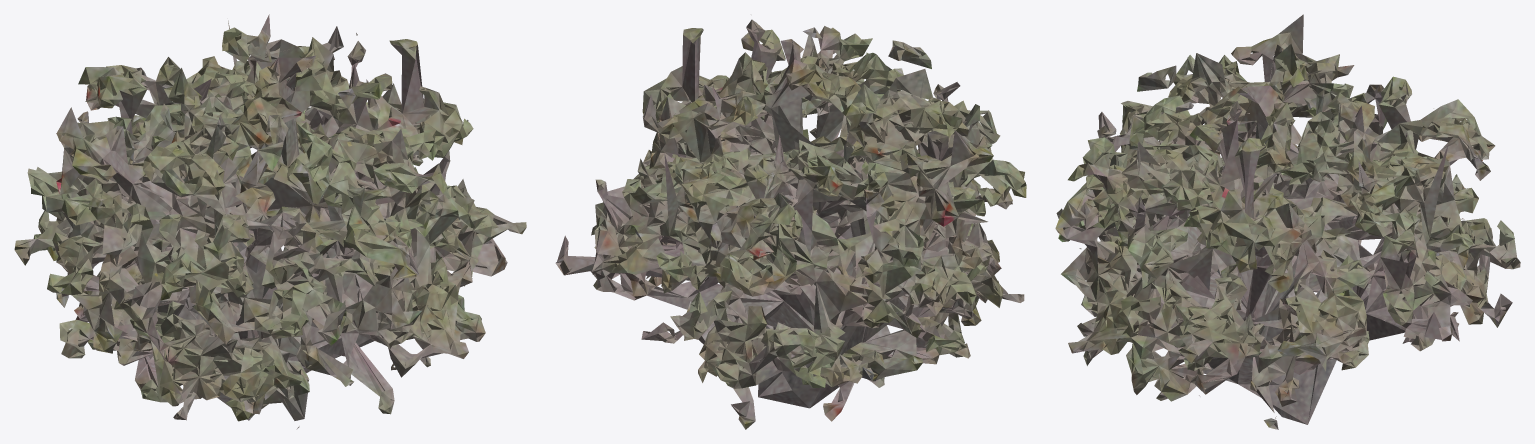
File: tree_apple.obj
3 renders of one model, left to right at view 1: azimuth 30°, elevation 25°; view 2: azimuth 150°, elevation 25°; view 3: azimuth 270°, elevation 25°, orthographic. The views are drawn at different scales.
Parts seen in each view (by area): view 1: tree_apple; view 2: tree_apple; view 3: tree_apple.
Part boxes in pixels (<box>): tree_apple: <box>14,14,526,429</box>; tree_apple: <box>555,19,1026,429</box>; tree_apple: <box>1055,14,1520,429</box>.
Bounding box in the file's own units: 6.76 × 6 × 6.98.
1 material, 1 textured.
